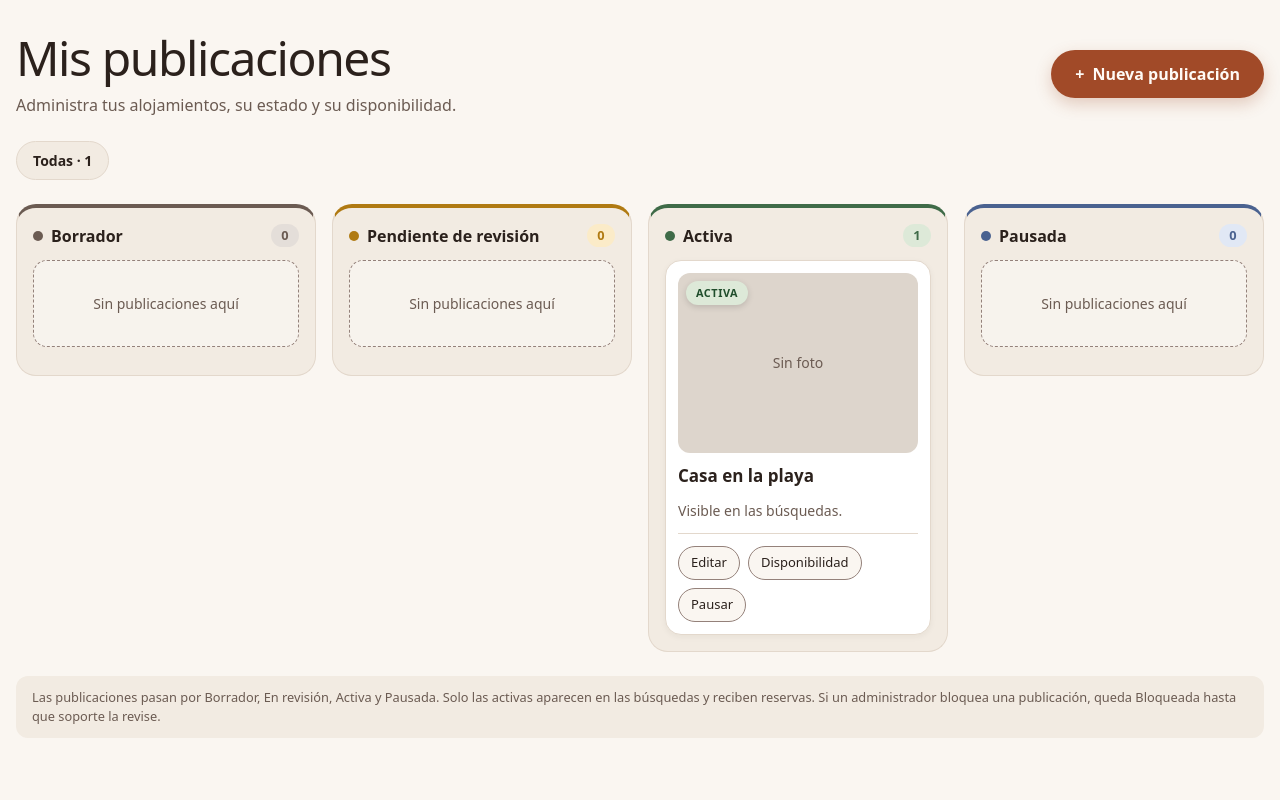
Scenario: MisPublicacionesPage › muestra el mensaje de la API cuando rechaza el cambio de estado
This screenshot has width=1280, height=800.
Click the button with aria-label "Pausar Casa en la playa" at (712, 605), box [678,588,746,622]
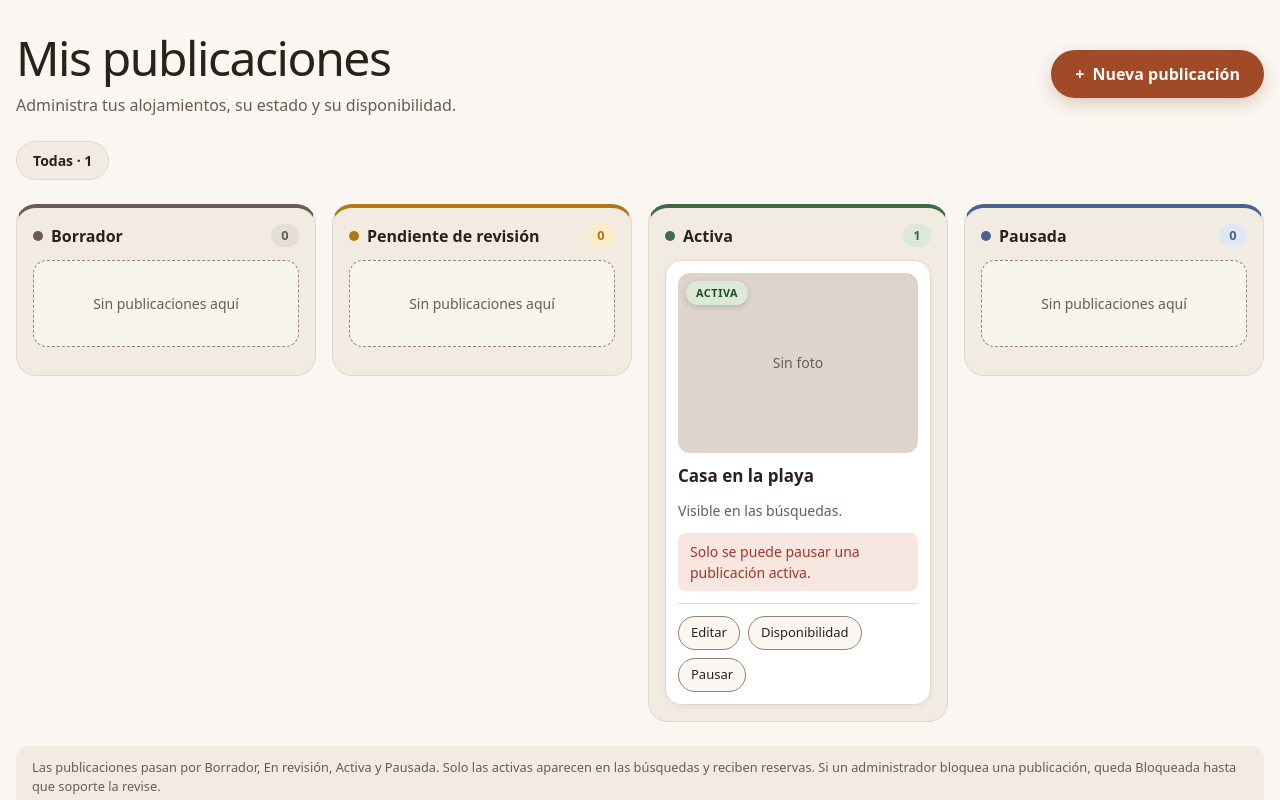
Expected: the button with aria-label "Pausar Casa en la playa" is enabled, [678,658,746,692]
Now the message reads "Solo se puede pausar una publicación activa.", box [690,542,860,582]
